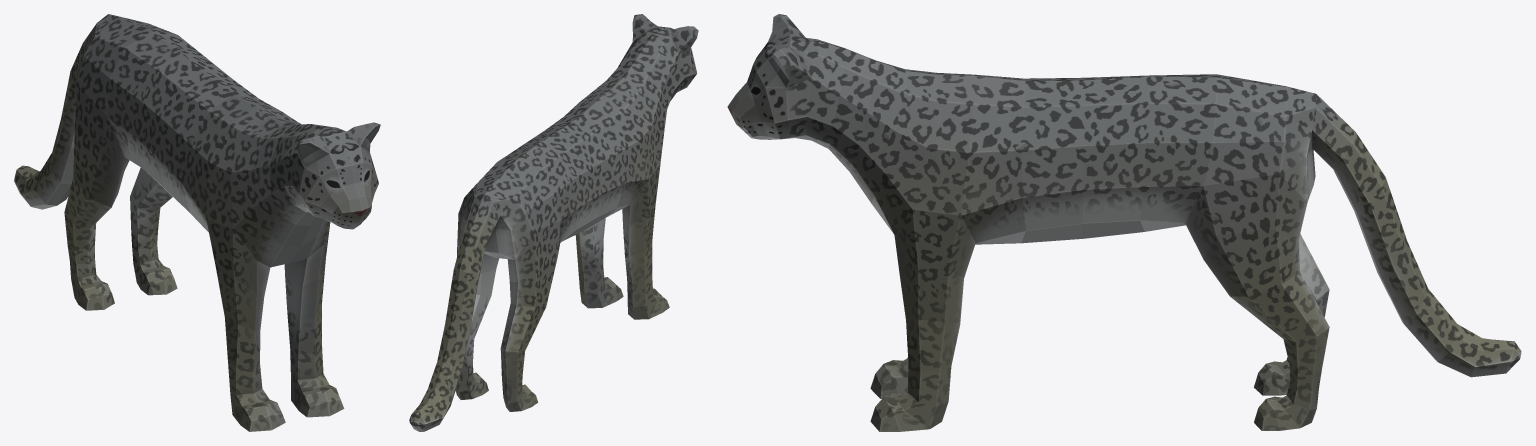
Rendered from 4866ebc9-2633-4356-b1e7-b74627e5cbd4.glb.
3 views of the same model, side by side, from view 1: azimuth 30°, elevation 25°; view 2: azimuth 150°, elevation 25°; view 3: azimuth 270°, elevation 25° (orthographic). The views are drawn at different scales.
Visible parts, largest first — view 1: SnowLeopard_mesh; view 2: SnowLeopard_mesh; view 3: SnowLeopard_mesh.
Part boxes in pixels (x1,y1,x2,y2): SnowLeopard_mesh: (14,14,380,431); SnowLeopard_mesh: (409,14,698,431); SnowLeopard_mesh: (727,14,1521,431).
Bounding box in the file's own units: 1.69 × 4.67 × 9.04.
Materials: 1 (1 with a texture image).
